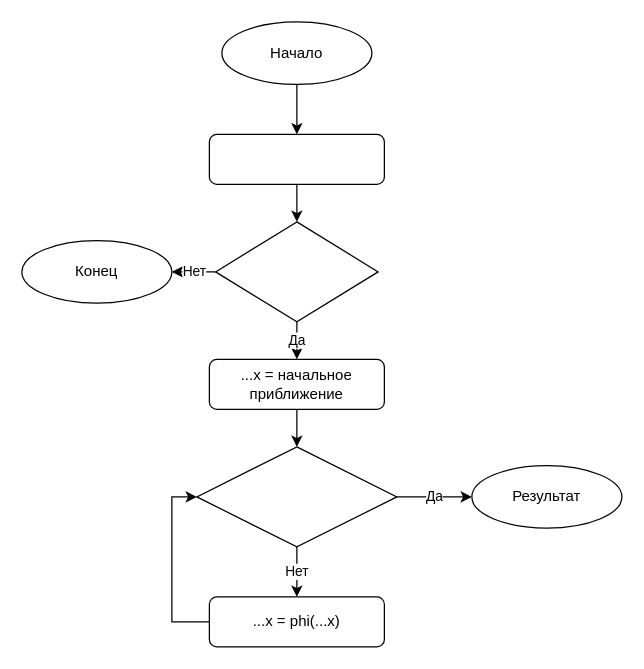
The diagram is 644 pixels wide and 669 high, and some of its shapes have lost their labels. Each missing label, with the centre of its shape:
"Вывести функции phi(...x)" belongs at pixel 296 158.
"Максимальная разница ...x и phi(...x) < погрешность?" belongs at pixel 296 496.
"Матрица phi'(...x) < 1?" belongs at pixel 296 271.
